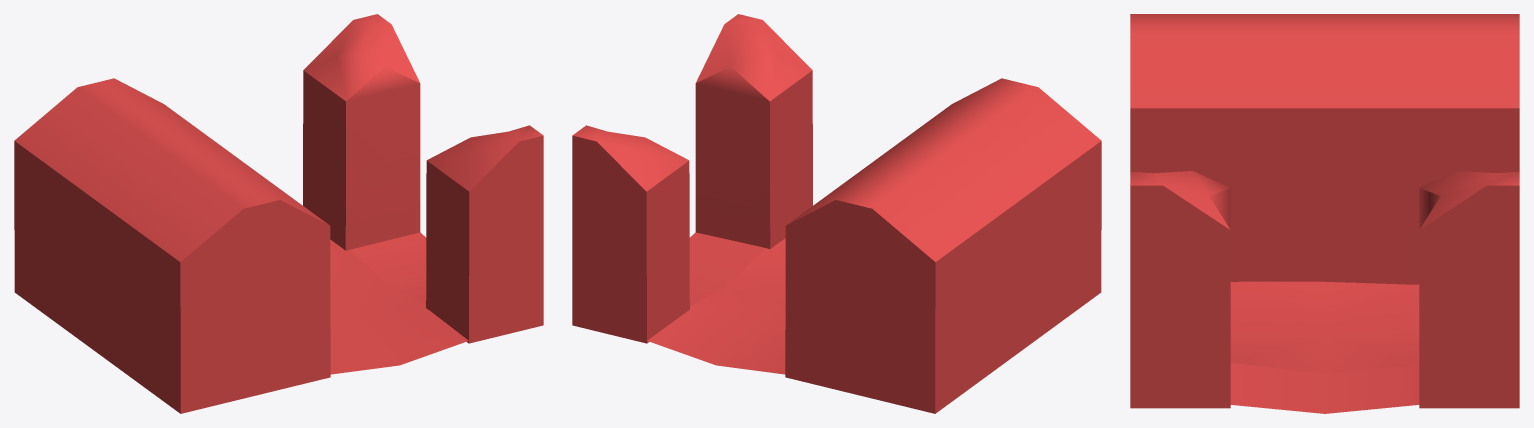
The model's file is Ground_T_Intersection_COL.fbx.
3 renders of one model, left to right at view 1: azimuth 30°, elevation 25°; view 2: azimuth 150°, elevation 25°; view 3: azimuth 270°, elevation 25°, orthographic. The views are drawn at different scales.
Parts seen in each view (by area): view 1: Ground_T_Intersection_COL; view 2: Ground_T_Intersection_COL; view 3: Ground_T_Intersection_COL.
Boxes of the visible parts, x1,y1,x2,y2 form: Ground_T_Intersection_COL: (14, 14, 543, 413); Ground_T_Intersection_COL: (572, 14, 1101, 413); Ground_T_Intersection_COL: (1130, 14, 1519, 413).
Bounding box in the file's own units: 505 × 266 × 400.
